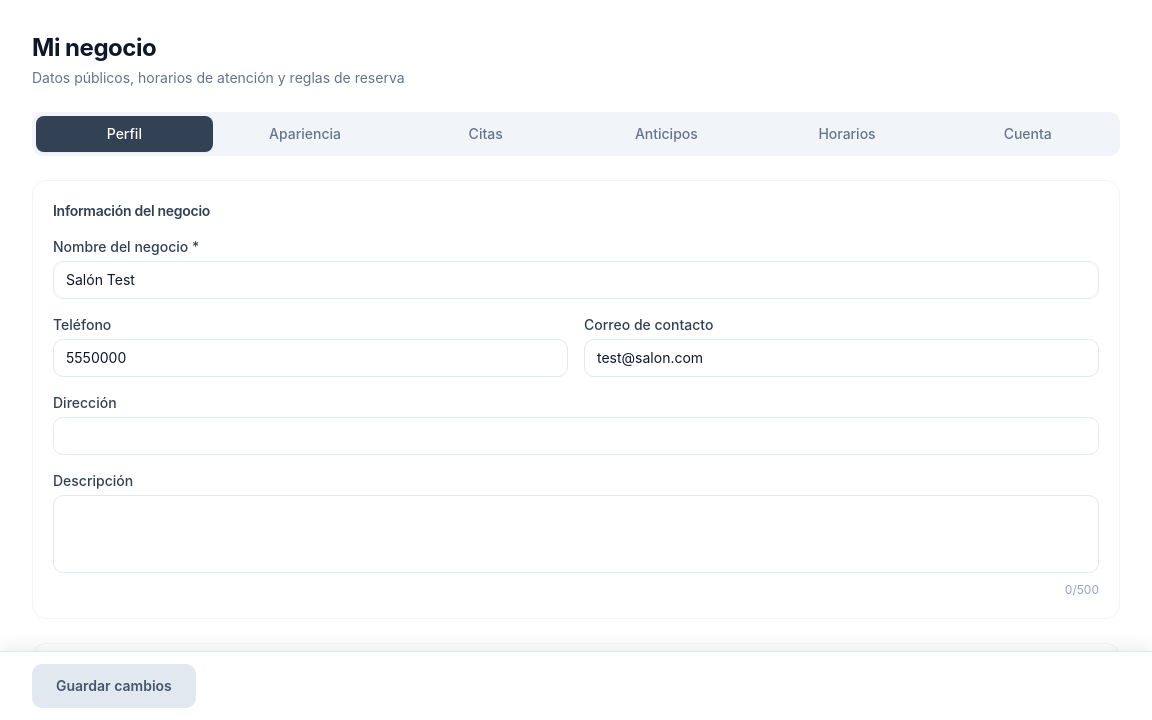
Test case: PerfilPage — 5 tabs › clic en Cuenta muestra la zona de peligro
Step 1. Click the button "Cuenta" → coordinates (1028, 134), box [939,116,1116,152]
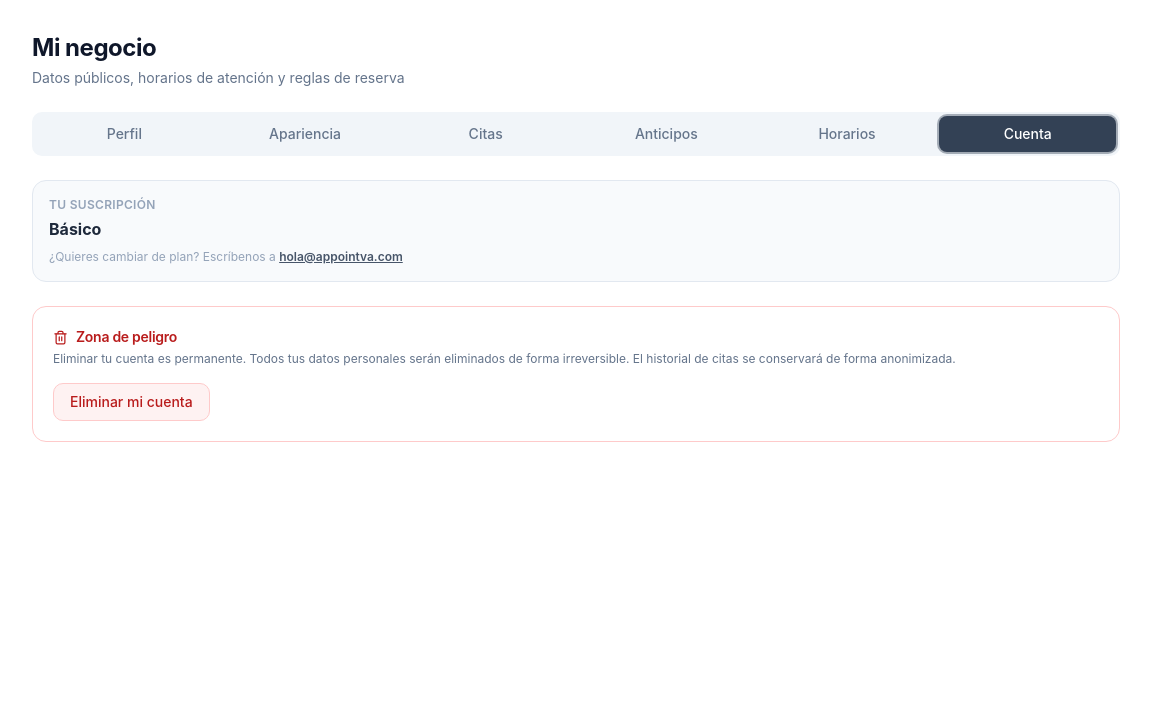
Result: the heading "Zona de peligro" is shown at [53,328,177,345]
